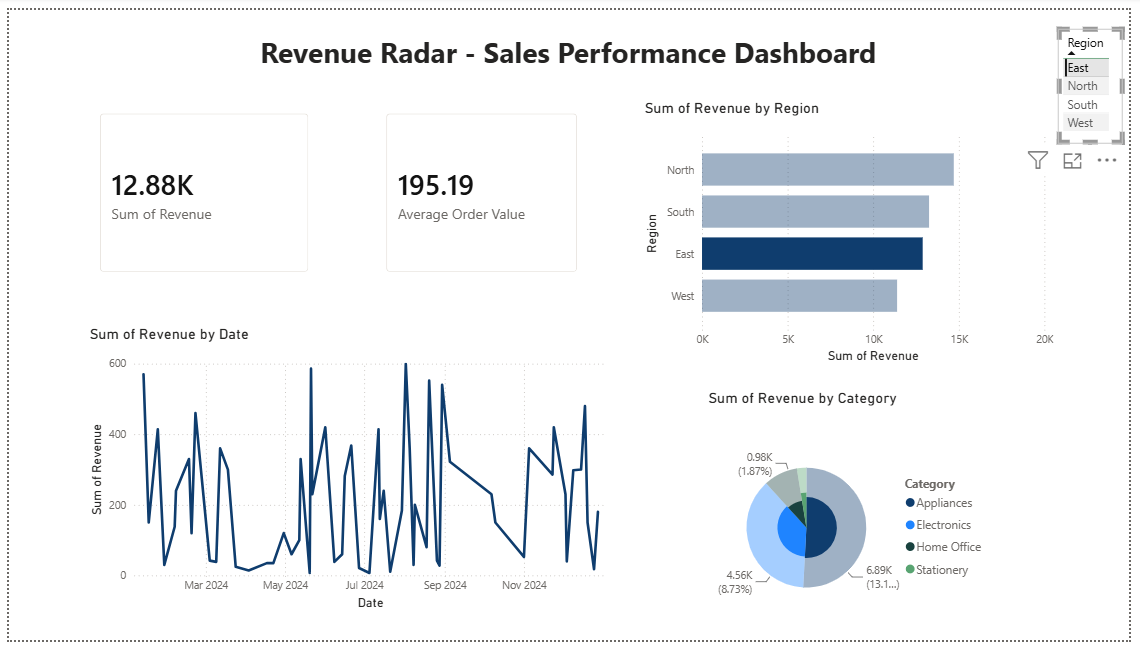

The page's visual inventory and layout, read from the dashboard file:
{"tool":"powerbi","page":{"name":"Page 1","canvas":[1280,720],"ordinal":0},"visuals":[{"type":"cardVisual","fields":{"Data":["Sum(Sheet1.Revenue)"]},"box":[87.1,101.4,272.9,215.7],"z":0},{"type":"clusteredBarChart","fields":{"Category":["Sheet1.Region"],"Y":["Sum(Sheet1.Revenue)"]},"box":[721.4,101.4,477.1,307.1],"z":1000},{"type":"lineChart","fields":{"Y":["Sum(Sheet1.Revenue)"],"Category":["Sheet1.Date"]},"box":[87.1,360,617.1,330],"z":2000},{"type":"pieChart","fields":{"Category":["Sheet1.Category"],"Y":["Sum(Sheet1.Revenue)"]},"box":[794.3,432.9,331.4,287.1],"z":3000},{"type":"cardVisual","fields":{"Data":["Sheet1.Average Order Value"]},"box":[414.3,101.4,252.9,215.7],"z":4000},{"type":"textbox","box":[31.4,21.4,1215.7,55.7],"z":5000},{"type":"tableEx","fields":{"Values":["Sheet1.Region"]},"box":[1198.6,21.4,74.3,131.4],"z":5001}]}

Visuals, with their boxes in screenshot pixels (x1, y1, x2, y2), scaled from the page's 1280x720 canvas onto the 1140x650 screenshot:
cardVisual - Sum(Sheet1.Revenue): BBox(78, 92, 321, 286)
clusteredBarChart - Sheet1.Region x Sum(Sheet1.Revenue): BBox(642, 92, 1067, 369)
lineChart - Sum(Sheet1.Revenue) x Sheet1.Date: BBox(78, 325, 627, 623)
pieChart - Sheet1.Category x Sum(Sheet1.Revenue): BBox(707, 391, 1003, 649)
cardVisual - Sheet1.Average Order Value: BBox(369, 92, 594, 286)
textbox: BBox(28, 19, 1111, 70)
tableEx - Sheet1.Region: BBox(1068, 19, 1134, 138)
